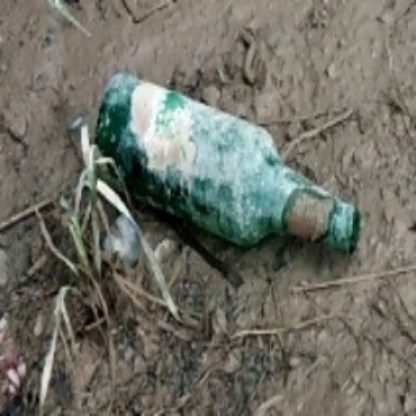bottle: (85, 60, 369, 263)
